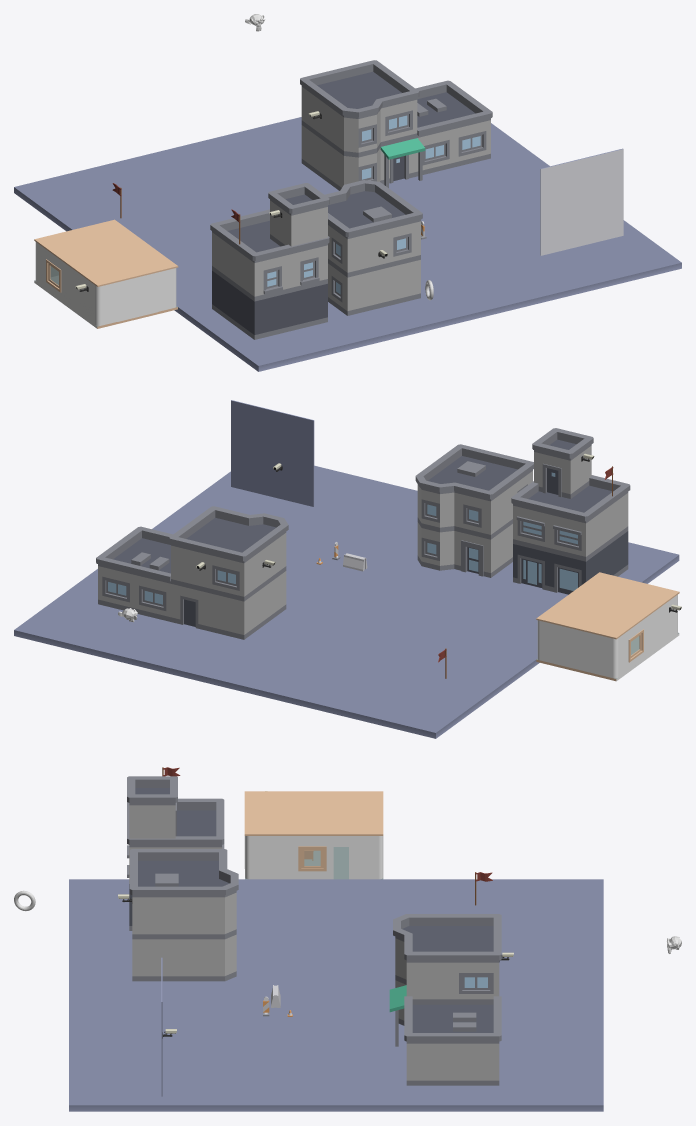
Rendered from notbad22.glb.
3 renders of one model, top to bottom at view 1: azimuth 30°, elevation 25°; view 2: azimuth 150°, elevation 25°; view 3: azimuth 270°, elevation 25°, orthographic. The views are drawn at different scales.
Parts seen in each view (by area): view 1: floor, small_buildingE, small_buildingF, small_buildingB, floor.001, floorFull(Clone), wallCornerRond(Clone), wall(Clone).001, wallWindow(Clone).001, wallCornerRond(Clone).005; view 2: floor, small_buildingE, small_buildingF, small_buildingB, floor.001, floorFull(Clone), wallCornerRond(Clone).002, wallWindow(Clone).001, wallCornerRond(Clone), wallCornerRond(Clone).007, Floor.002; view 3: floor, small_buildingE, small_buildingB, small_buildingF, floorFull(Clone), wallWindow(Clone), wallCornerRond(Clone).005, wallCornerRond(Clone).007, Floor.002.
Part boxes in pixels (box(x1,y1,x2,y2)): floor: box(14, 117, 681, 371); small_buildingE: box(300, 60, 492, 190); small_buildingF: box(210, 183, 329, 339); small_buildingB: box(324, 180, 422, 315); floor.001: box(540, 148, 623, 255); floorFull(Clone): box(34, 219, 178, 286); wallCornerRond(Clone): box(72, 269, 116, 325); wall(Clone).001: box(117, 272, 158, 321); wallWindow(Clone).001: box(44, 248, 72, 307); wallCornerRond(Clone).005: box(158, 268, 176, 311); floor: box(14, 465, 679, 738); small_buildingE: box(96, 506, 288, 639); small_buildingF: box(511, 428, 630, 594); small_buildingB: box(415, 444, 533, 577); floor.001: box(231, 400, 314, 506); floorFull(Clone): box(536, 572, 679, 639); wallCornerRond(Clone).002: box(555, 625, 626, 678); wallWindow(Clone).001: box(626, 612, 654, 671); wallCornerRond(Clone): box(654, 594, 677, 650); wallCornerRond(Clone).007: box(537, 620, 555, 663); Floor.002: box(536, 632, 679, 681); floor: box(69, 879, 603, 1111); small_buildingE: box(389, 914, 501, 1085); small_buildingB: box(130, 849, 238, 981); small_buildingF: box(127, 776, 224, 930); floorFull(Clone): box(244, 791, 383, 835); wallWindow(Clone): box(283, 836, 333, 879); wallCornerRond(Clone).005: box(245, 836, 283, 879); wallCornerRond(Clone).007: box(349, 836, 383, 879); Floor.002: box(245, 847, 383, 879).
Size of the model in its own units: 73.02 by 17.45 by 74.97.
Materials: 57 (3 with a texture image).
